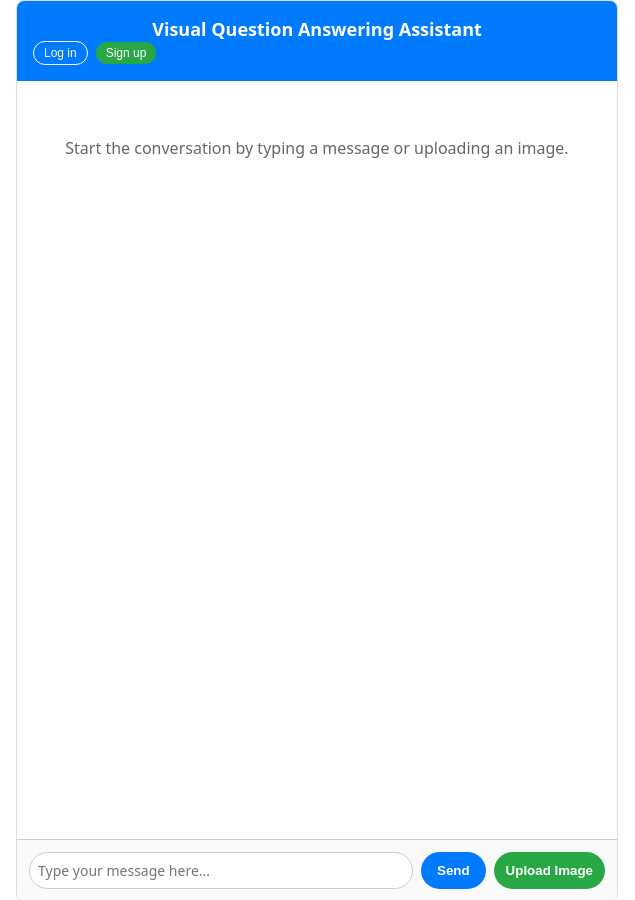
Test: ChatbotUI component › sending text message adds user message and bot echo
The width and height of the screenshot is (635, 900).
Type "Hello" into the text box with placeholder "Type your message here..." at coordinates (221, 870), box [29, 852, 413, 889]
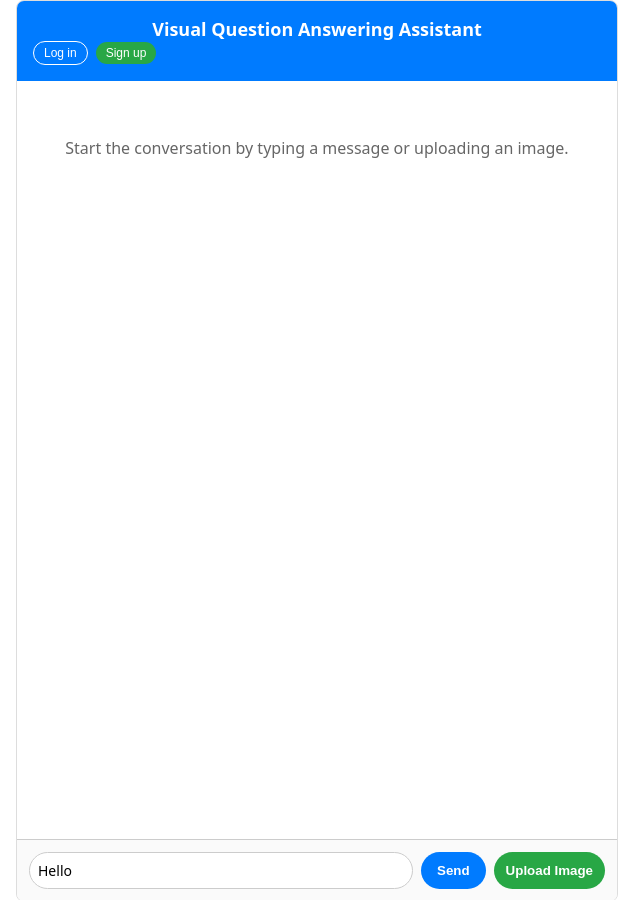
Click the button "Send" at coordinates (453, 870), box [421, 852, 486, 889]
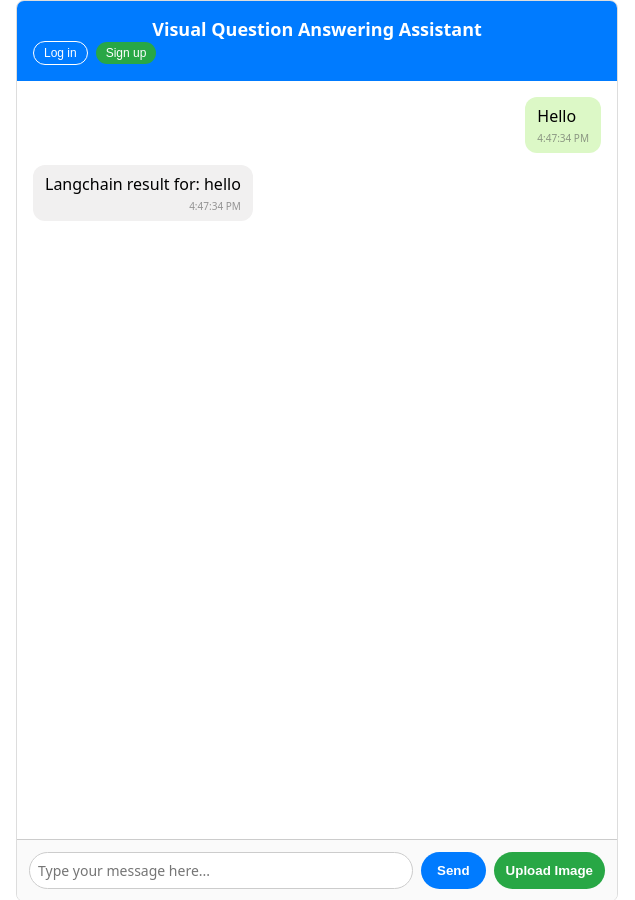
Result: the text "Hello" is shown at [537, 105, 576, 127]
Result: the text "Langchain result for: hello" is shown at [45, 173, 241, 195]
